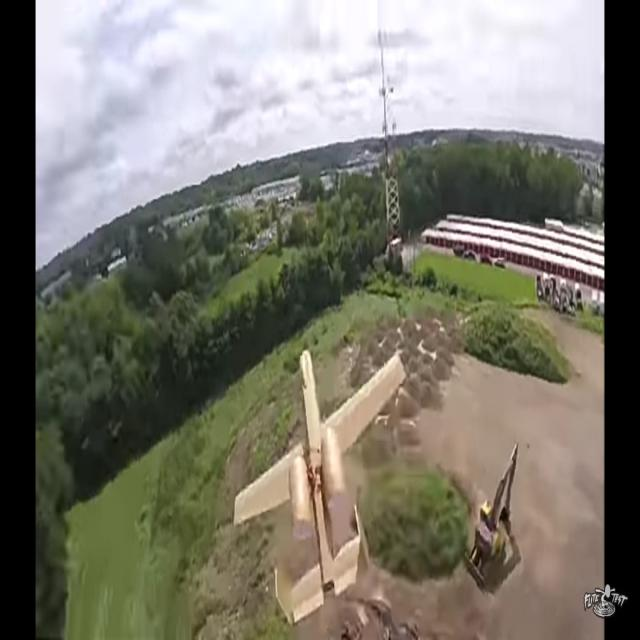iha: (233, 346, 407, 626)
